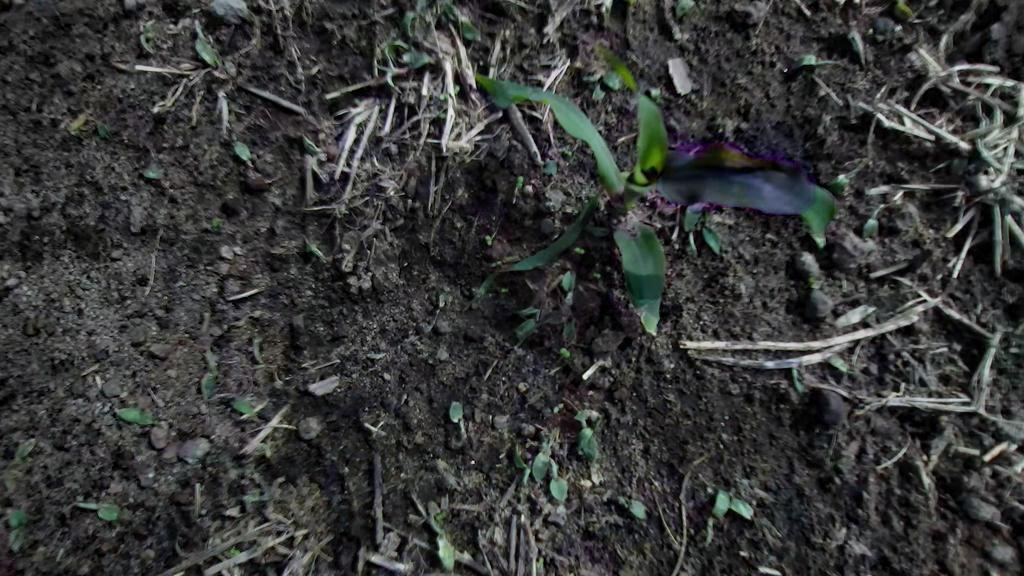BroWeed: (716, 492, 787, 555), (818, 152, 882, 203), (208, 385, 270, 426), (296, 128, 338, 186), (182, 16, 224, 73), (700, 487, 734, 551), (369, 45, 414, 92), (428, 511, 460, 574), (928, 145, 972, 189), (568, 408, 605, 457), (824, 349, 873, 386), (541, 288, 584, 330), (690, 214, 731, 258), (528, 423, 557, 484), (0, 434, 41, 475), (504, 438, 536, 486), (675, 197, 715, 234), (69, 498, 121, 526), (0, 508, 30, 554), (573, 419, 603, 465), (379, 31, 417, 67), (858, 198, 887, 244), (197, 349, 221, 404), (511, 302, 544, 342), (112, 400, 157, 429), (226, 130, 258, 170), (678, 208, 703, 259), (613, 491, 650, 524), (833, 302, 878, 329), (136, 534, 168, 571), (446, 398, 469, 448), (270, 237, 324, 258), (845, 28, 872, 69), (790, 51, 843, 71), (547, 456, 569, 503), (576, 56, 608, 88), (963, 166, 998, 195), (398, 47, 438, 70), (785, 365, 812, 397), (584, 75, 612, 104), (798, 269, 825, 294), (138, 24, 158, 57), (897, 222, 924, 246), (559, 317, 580, 347), (423, 495, 445, 521), (808, 225, 829, 252), (535, 157, 559, 177), (251, 335, 265, 369), (624, 496, 651, 513), (573, 408, 601, 424), (142, 161, 164, 181), (601, 69, 620, 92), (242, 485, 262, 506), (675, 0, 696, 20), (560, 269, 577, 292), (320, 161, 350, 174), (645, 85, 663, 105), (95, 118, 112, 139), (0, 468, 26, 481), (1, 479, 16, 501), (549, 400, 568, 416), (0, 505, 13, 525), (434, 508, 450, 524), (557, 345, 574, 359), (514, 173, 526, 190), (864, 25, 877, 39), (211, 218, 224, 231), (590, 269, 603, 282), (536, 555, 544, 576), (364, 352, 385, 360), (228, 545, 241, 557), (572, 246, 587, 256), (351, 95, 363, 107), (432, 110, 446, 119), (452, 84, 462, 96), (381, 97, 390, 110), (484, 233, 493, 246), (561, 152, 573, 161), (438, 92, 449, 100), (875, 35, 884, 43), (500, 287, 509, 294)
Maize: (435, 28, 863, 365)
